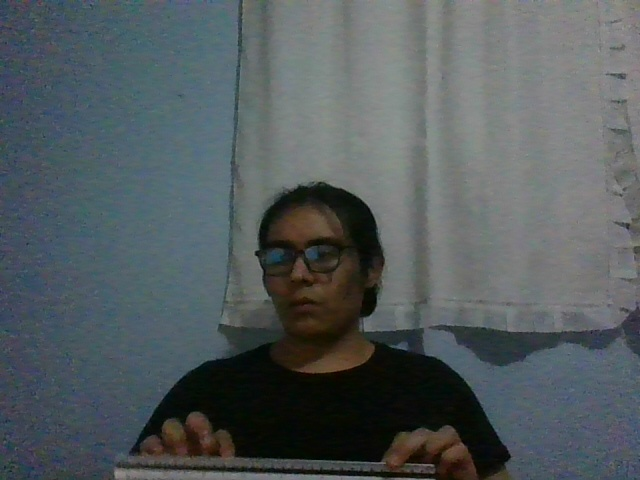regla: (114, 454, 437, 480)
